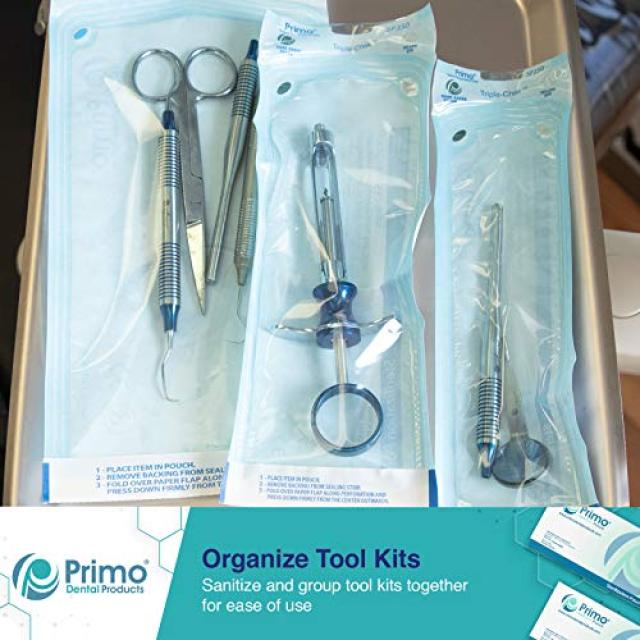B3: (120, 30, 242, 312)
